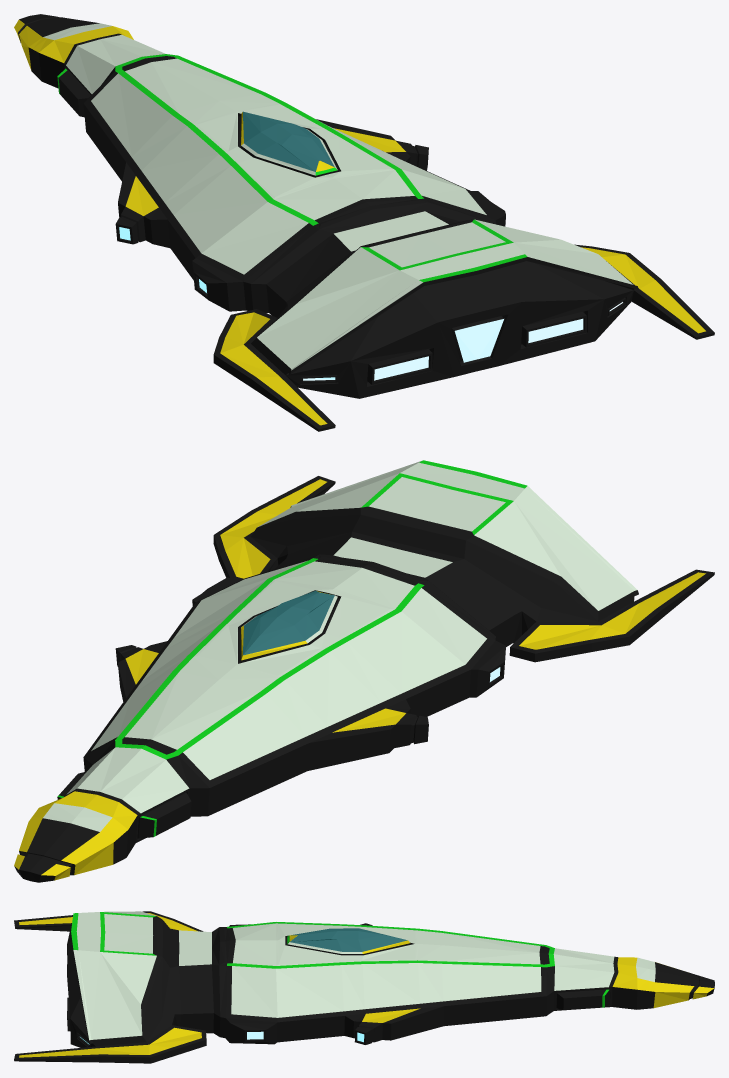
The model's file is shiptest.glb.
The picture shows the model from 3 angles, top to bottom: view 1: azimuth 30°, elevation 25°; view 2: azimuth 150°, elevation 25°; view 3: azimuth 270°, elevation 25°; orthographic projection. The views are drawn at different scales.
Parts seen in each view (by area): view 1: Cube; view 2: Cube; view 3: Cube.
Boxes of the visible parts, <box> form: Cube: <box>14,14,714,431</box>; Cube: <box>14,460,714,882</box>; Cube: <box>14,911,714,1063</box>.
Size of the model in its own units: 4.1 by 0.9639 by 8.31.
